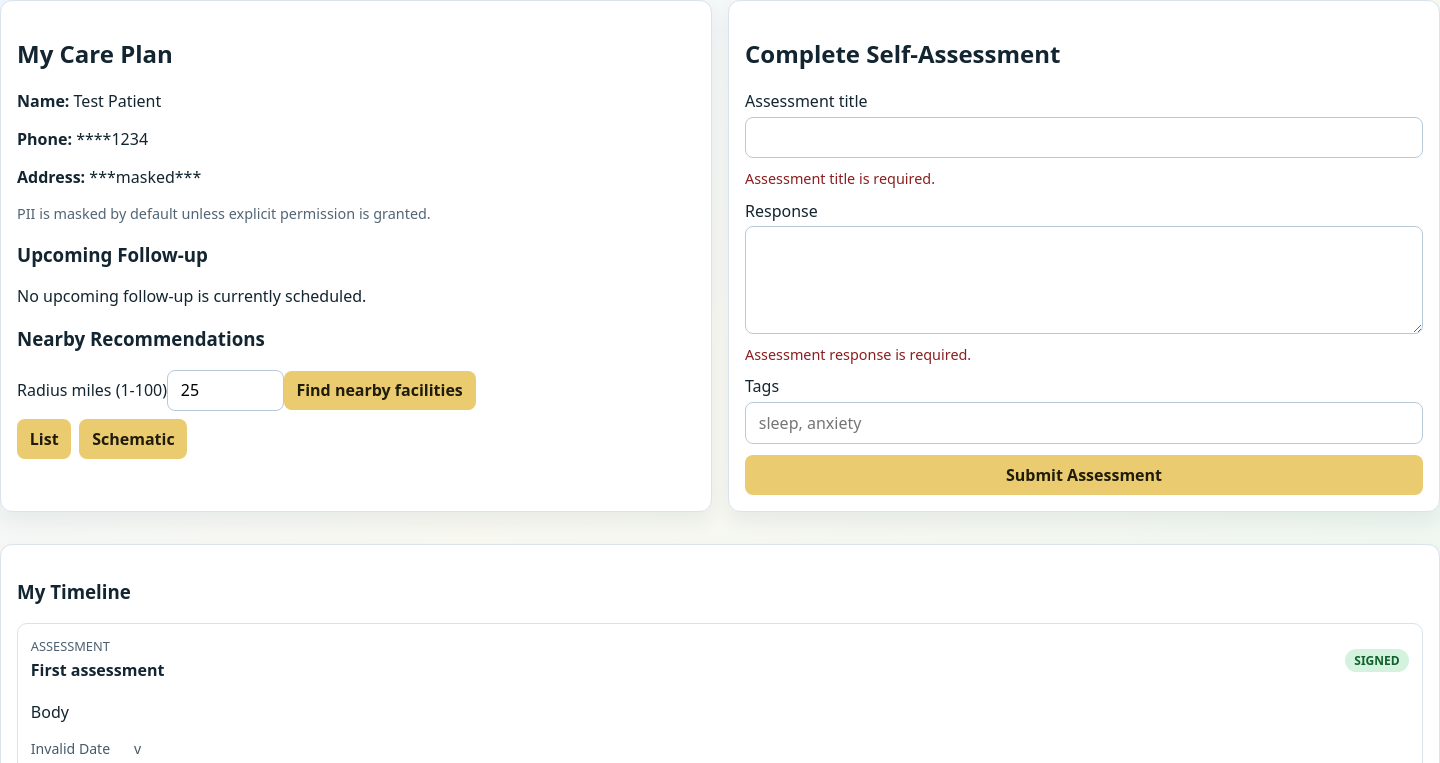
Test case: ClientModule — self-assessment submission › shows error message when createEntry fails
Type "Title" into the field labelled "Assessment title".
click(1084, 137); type("Title")  # box [745, 117, 1423, 158]
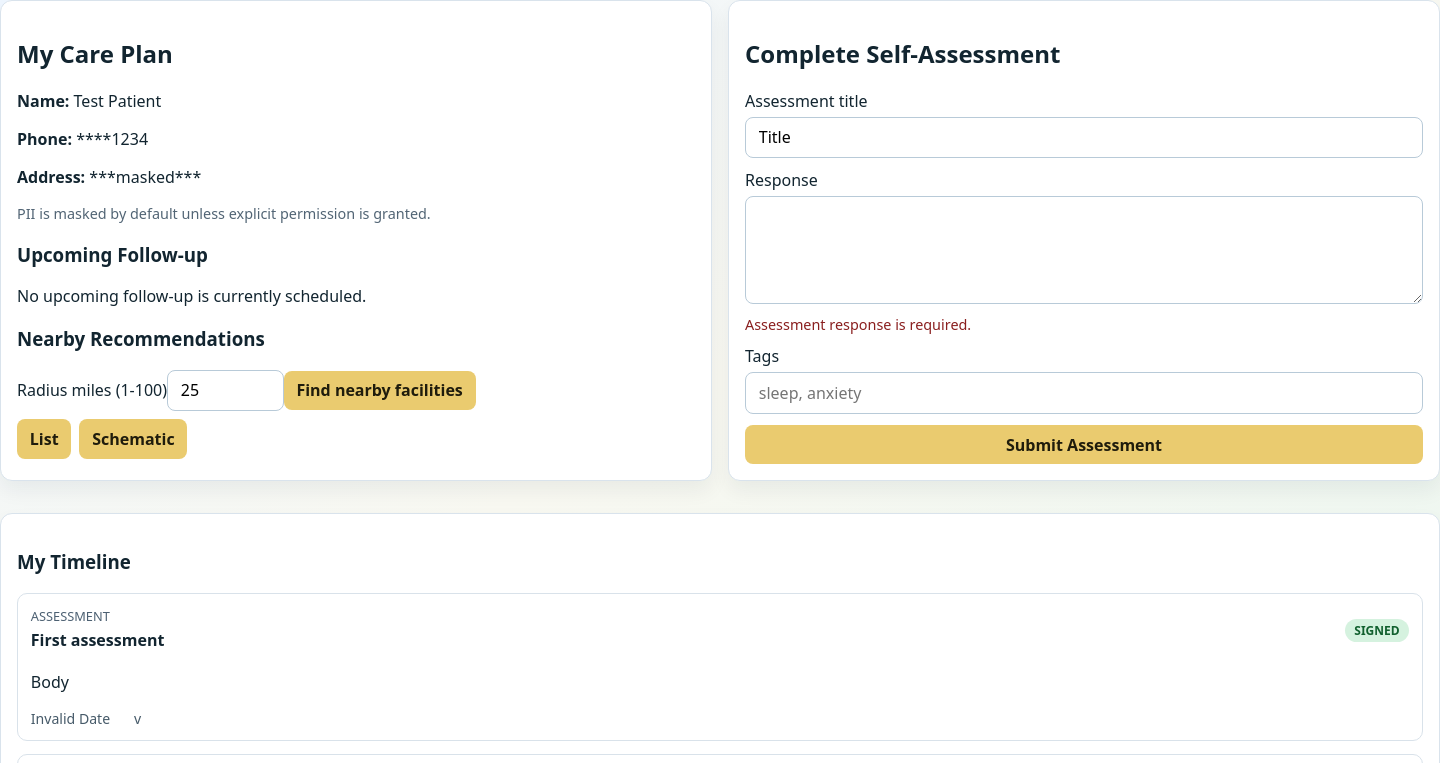
Type "Body" into the text box labelled "Response".
click(1084, 250); type("Body")  # box [745, 196, 1423, 304]
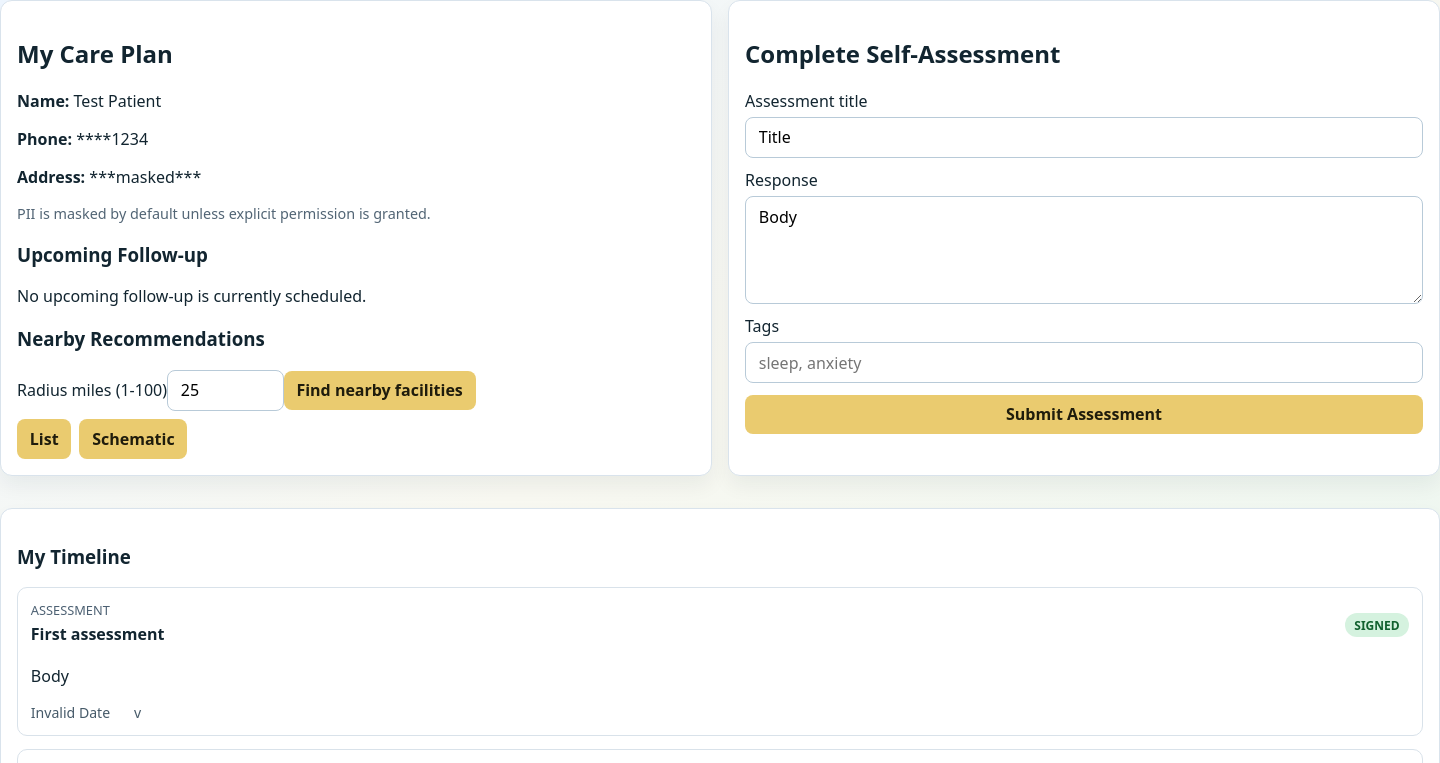
Click the button "Submit Assessment".
click(1084, 414)  # box [745, 394, 1423, 434]
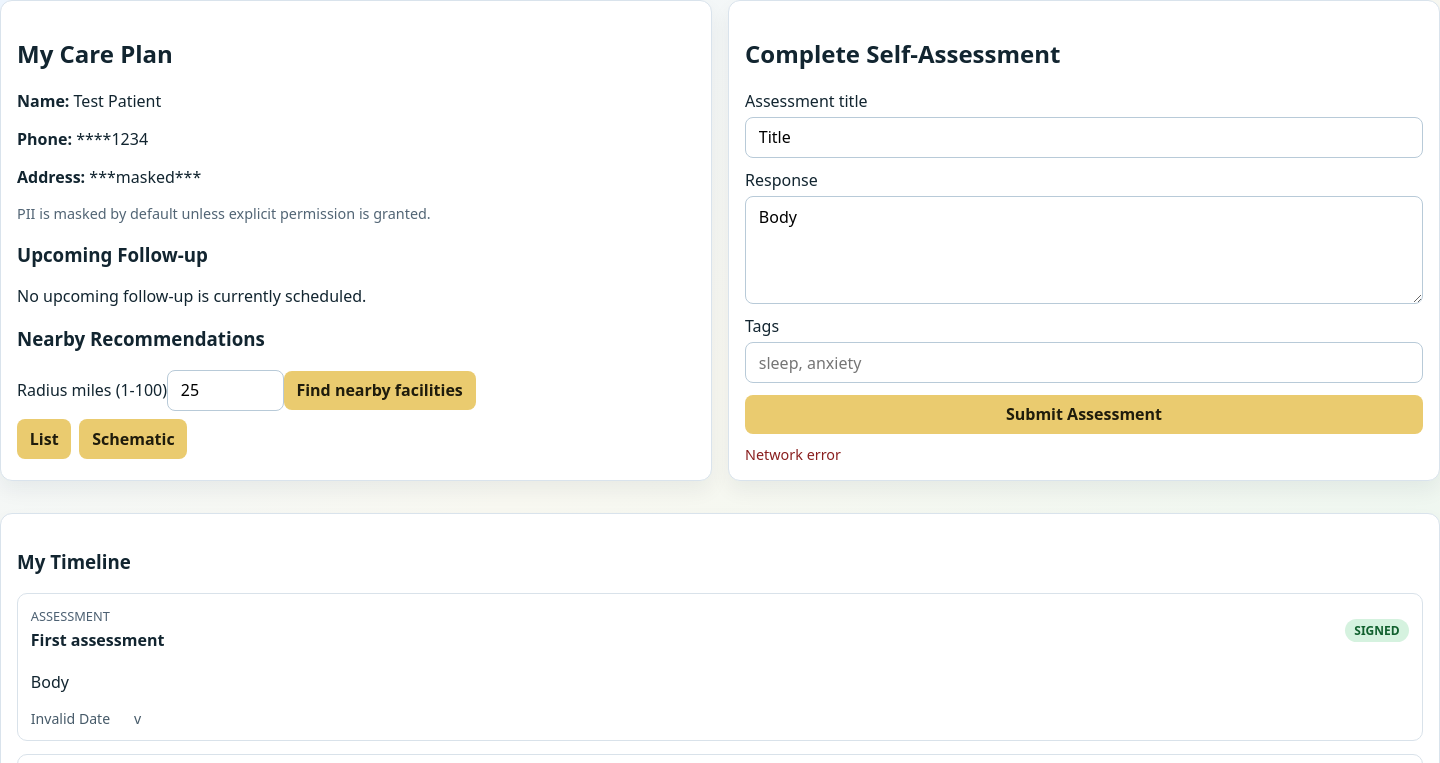
Result: the text "Network error" is shown at [745, 445, 841, 464]
